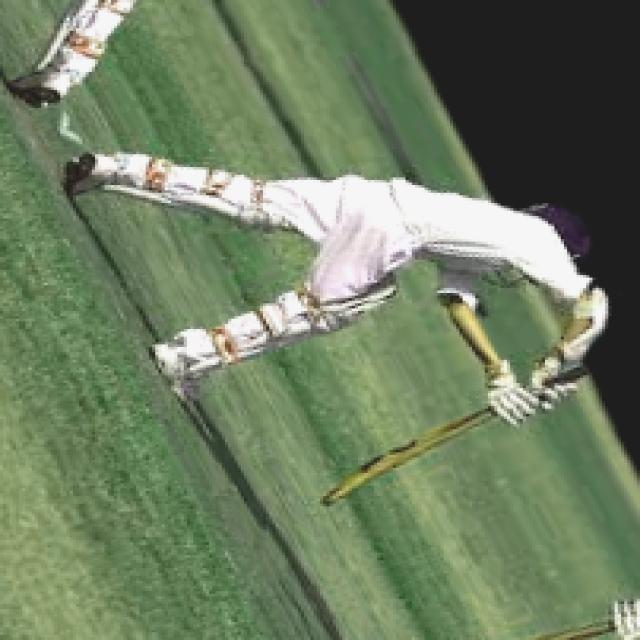bat: (299, 405, 503, 520)
toe: (315, 491, 345, 512)
